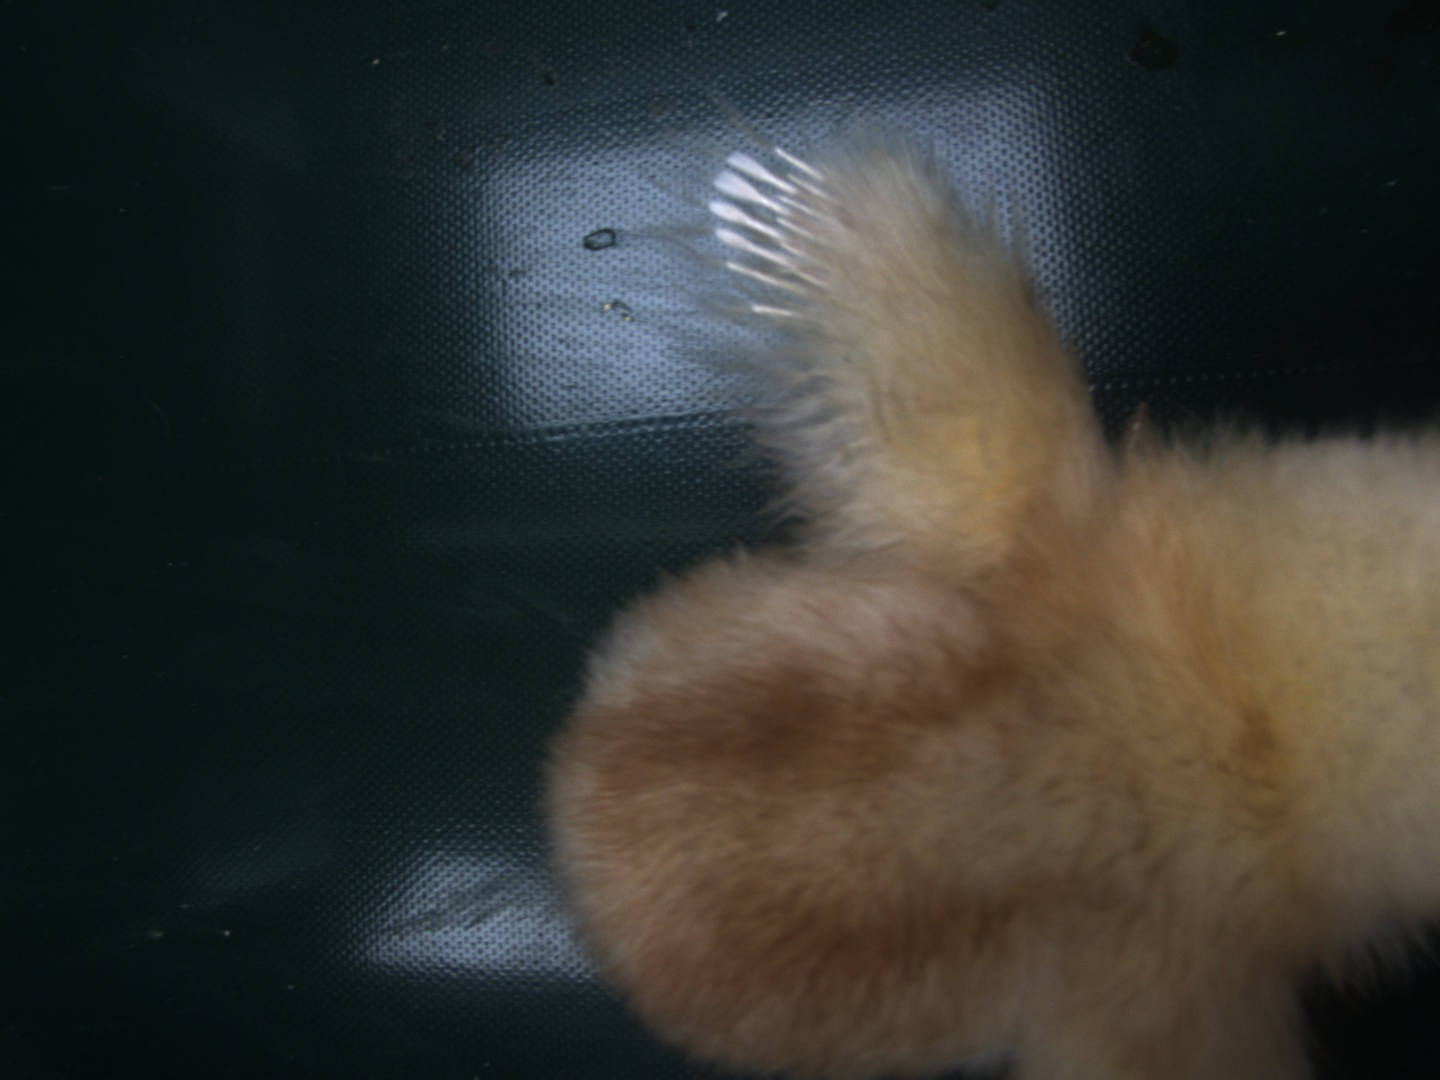female: (708, 144, 872, 334)
